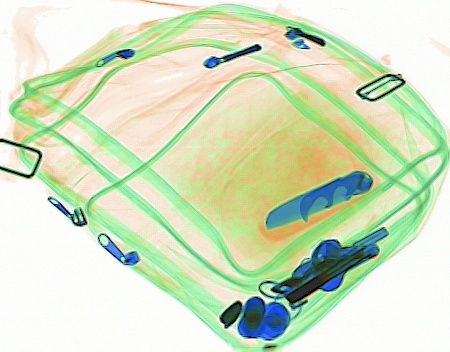knife: (253, 166, 374, 243)
